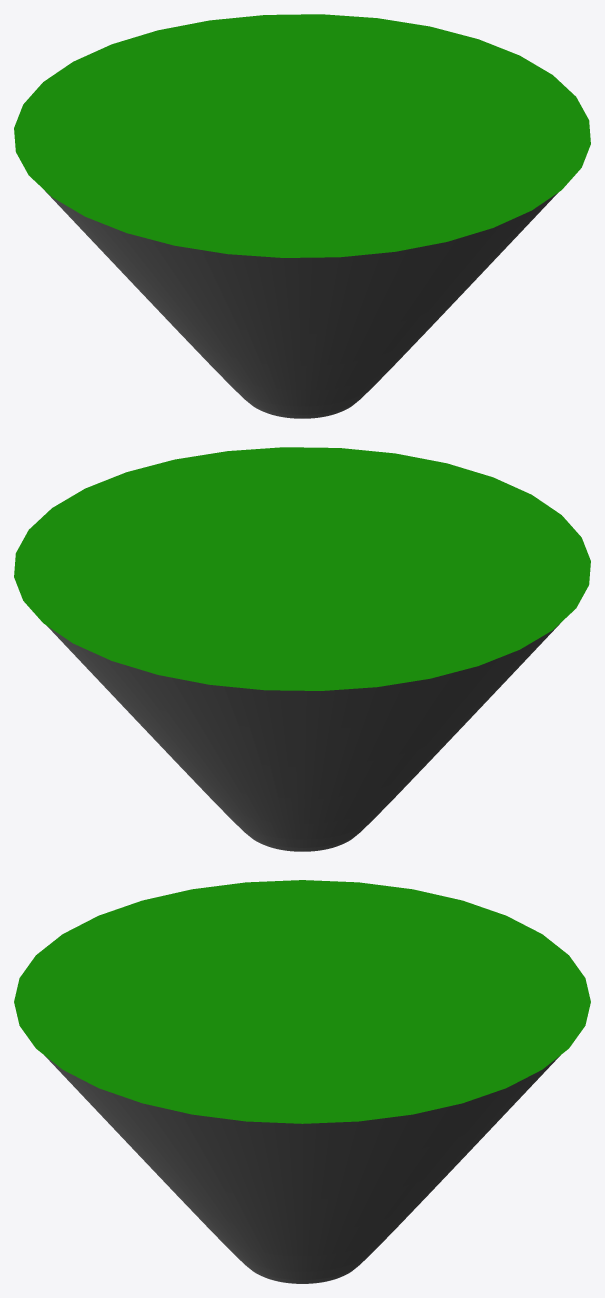
Rendered from island test.fbx.
3 renders of one model, top to bottom at view 1: azimuth 30°, elevation 25°; view 2: azimuth 150°, elevation 25°; view 3: azimuth 270°, elevation 25°, orthographic.
Parts seen in each view (by area): view 1: Cylinder.001, Cylinder; view 2: Cylinder.001, Cylinder; view 3: Cylinder.001, Cylinder.
Boxes of the visible parts, x1=… form: Cylinder.001: x1=14, y1=14, x2=590, y2=257; Cylinder: x1=44, y1=190, x2=558, y2=418; Cylinder.001: x1=14, y1=447, x2=590, y2=690; Cylinder: x1=46, y1=623, x2=560, y2=851; Cylinder.001: x1=14, y1=880, x2=590, y2=1123; Cylinder: x1=44, y1=1055, x2=560, y2=1283.
Bounding box in the file's own units: 200 × 101 × 200.
